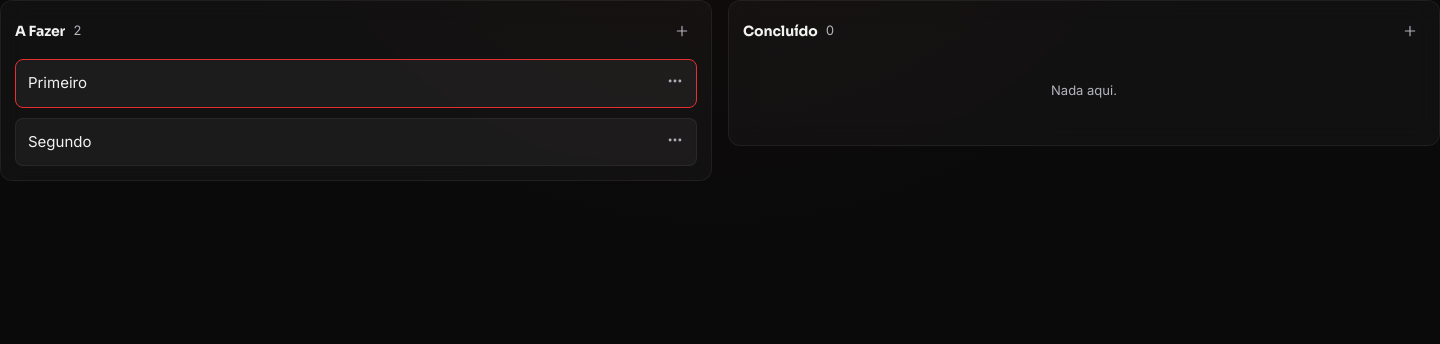
Quadro › Mover para… no menu lista as outras colunas e move o card
The image size is (1440, 344).
Click the button named "Ações de Segundo" at (675, 140), box [660,124,690,154]
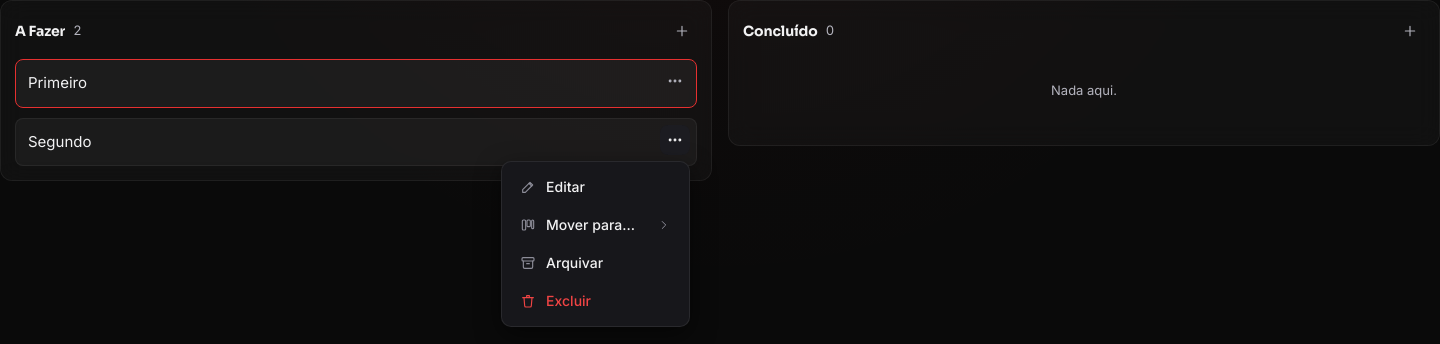
Click the menu item "Mover para…" at (596, 224), box [508,206,683,244]
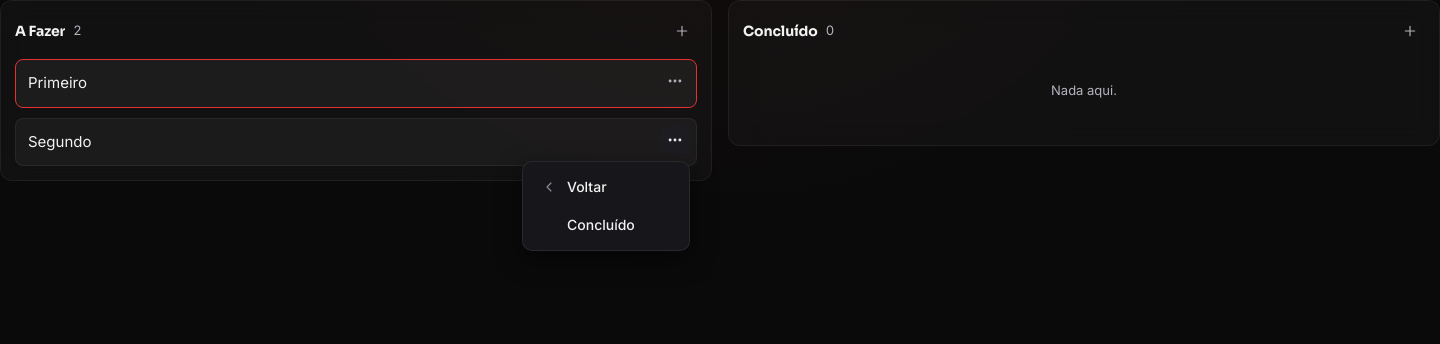
Expected: the menu items read "Voltar", "Concluído", in this order
Click the menu item "Concluído" at (606, 224), box [529,206,683,244]
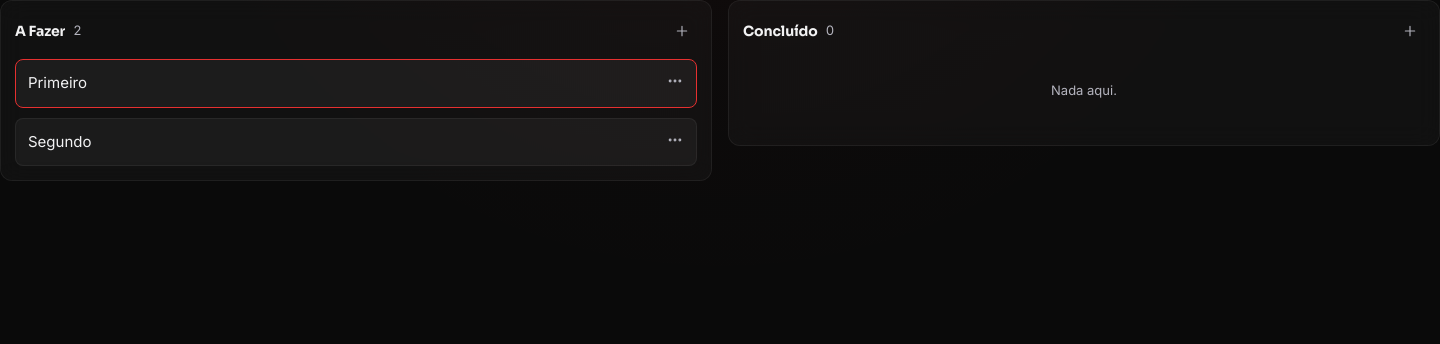
Expected: the menu is gone
